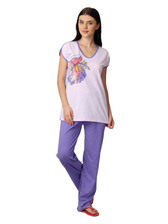clothoes: (56, 107, 111, 214), (54, 39, 114, 126)
